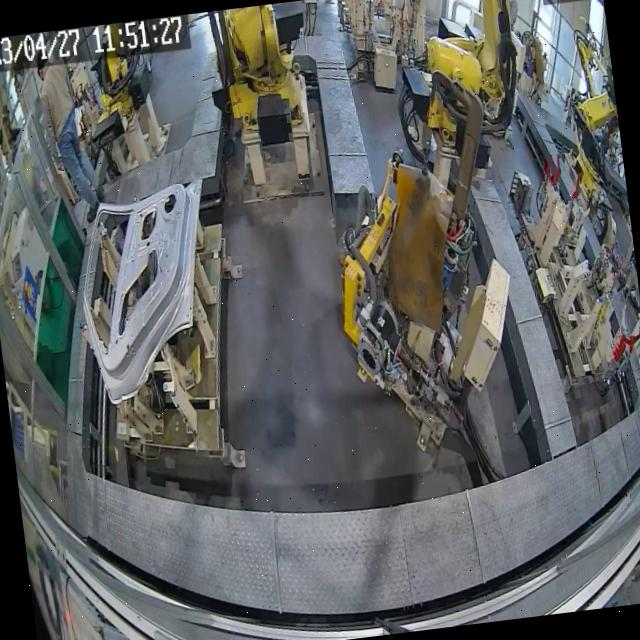Person: (34, 44, 108, 228)
